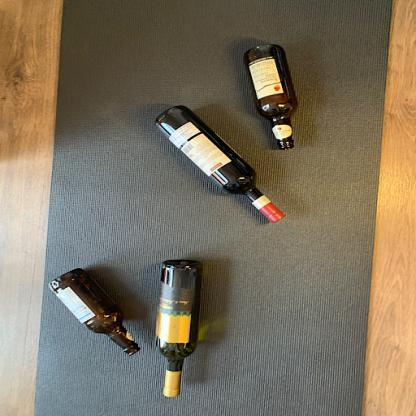trash: (150, 104, 288, 225), (48, 267, 143, 359), (154, 258, 204, 398), (244, 44, 298, 150)
